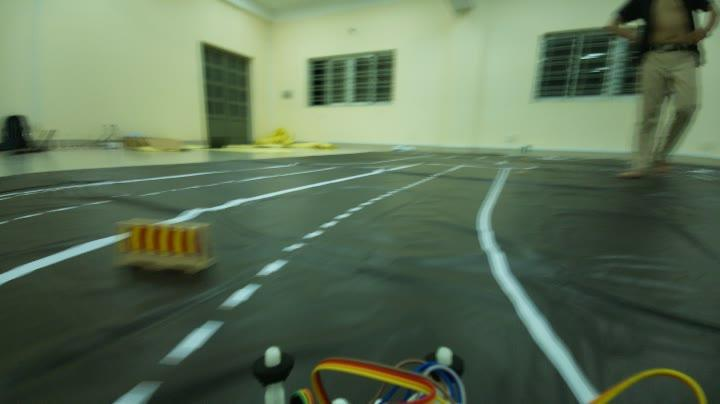roadblock: (112, 218, 218, 268)
